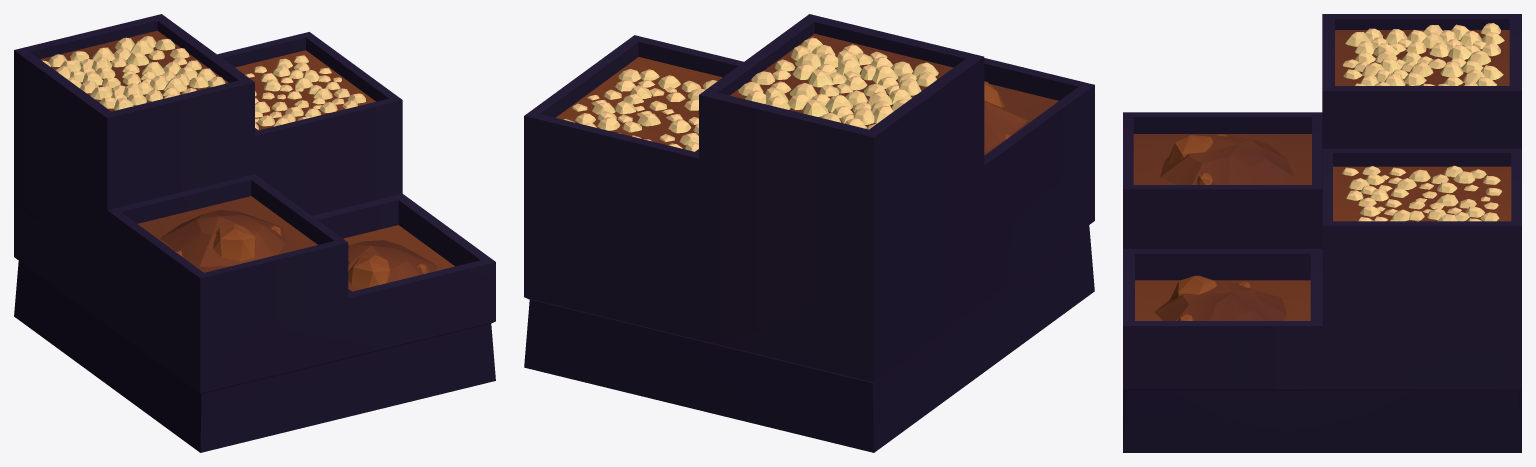
File: Garden_SquarePlanter03.fbx
The picture shows the model from 3 angles, left to right: view 1: azimuth 30°, elevation 25°; view 2: azimuth 150°, elevation 25°; view 3: azimuth 270°, elevation 25°; orthographic projection. The views are drawn at different scales.
Visible parts, largest first — view 1: Box Planter03; view 2: Box Planter03; view 3: Box Planter03.
Part boxes in pixels (left/top/right/bottom): Box Planter03: left=14, top=14, right=495, bottom=452; Box Planter03: left=524, top=14, right=1094, bottom=452; Box Planter03: left=1123, top=14, right=1521, bottom=452.
Size of the model in its own units: 77.81 by 67.04 by 85.05.
